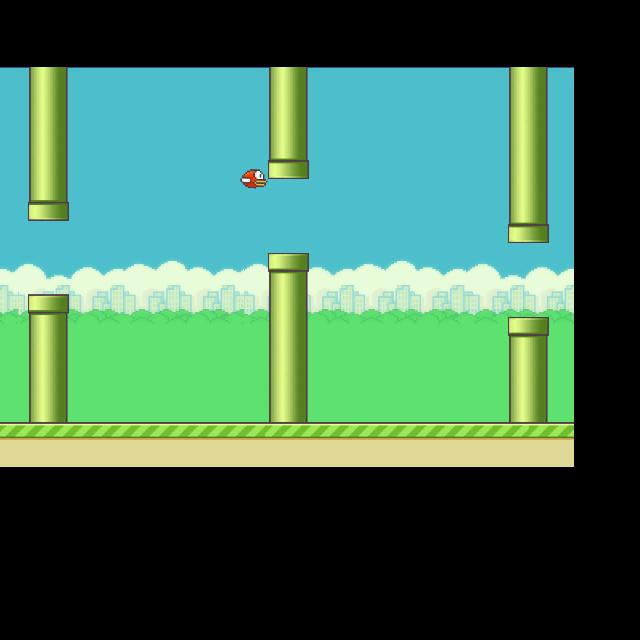bird: (240, 169, 268, 189)
pipedown: (267, 252, 309, 423), (27, 293, 69, 423), (507, 316, 549, 422)
pipeup: (508, 66, 548, 243), (27, 66, 69, 222), (267, 66, 309, 180)
